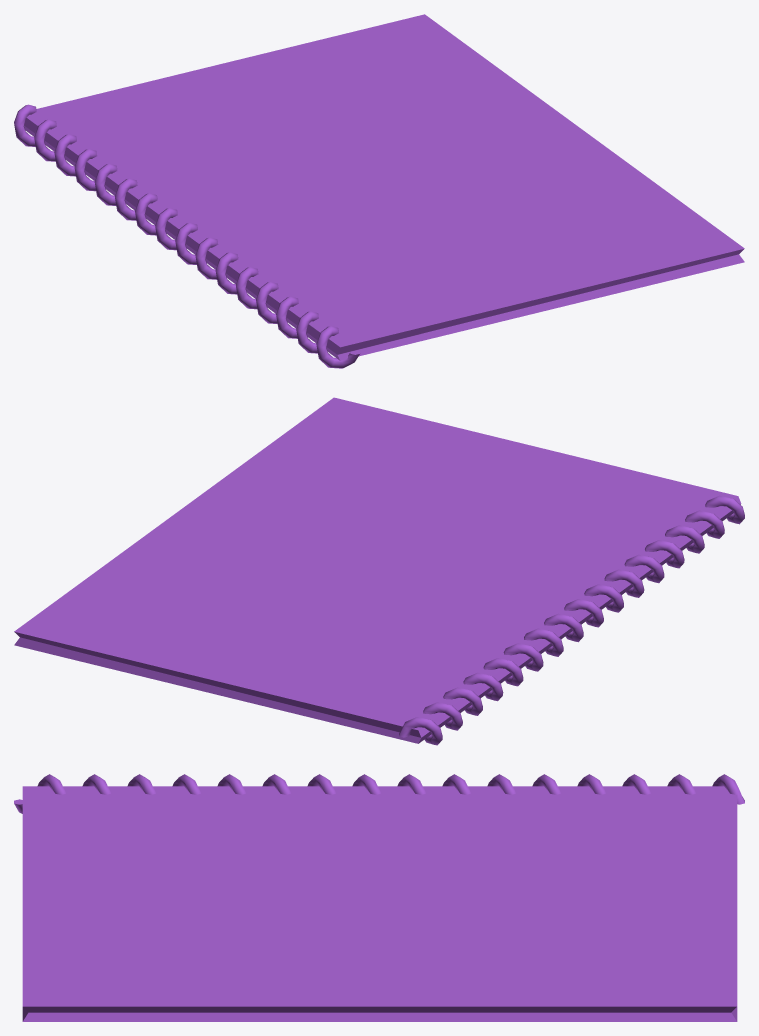
The model's file is Cuaderno 2.fbx.
3 renders of one model, top to bottom at view 1: azimuth 30°, elevation 25°; view 2: azimuth 150°, elevation 25°; view 3: azimuth 270°, elevation 25°, orthographic. The views are drawn at different scales.
Visible parts, largest first — view 1: Cuaderno_2; view 2: Cuaderno_2; view 3: Cuaderno_2.
Part boxes in pixels (bbox=[...]): Cuaderno_2: bbox=[14, 14, 744, 368]; Cuaderno_2: bbox=[14, 397, 744, 745]; Cuaderno_2: bbox=[14, 774, 744, 1021].
Bounding box in the file's own units: 0.2793 × 0.022 × 0.3785.
